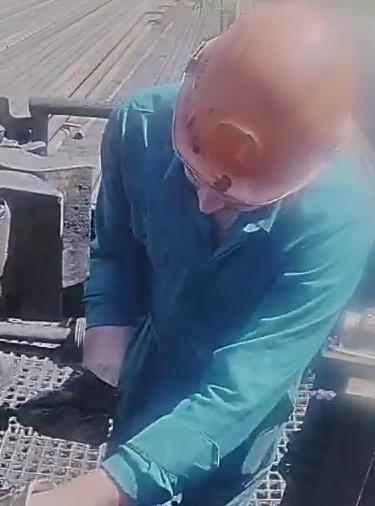gloves: (12, 370, 117, 445), (0, 475, 64, 506)
helmet: (171, 3, 356, 207)
vest: (82, 89, 375, 461)
